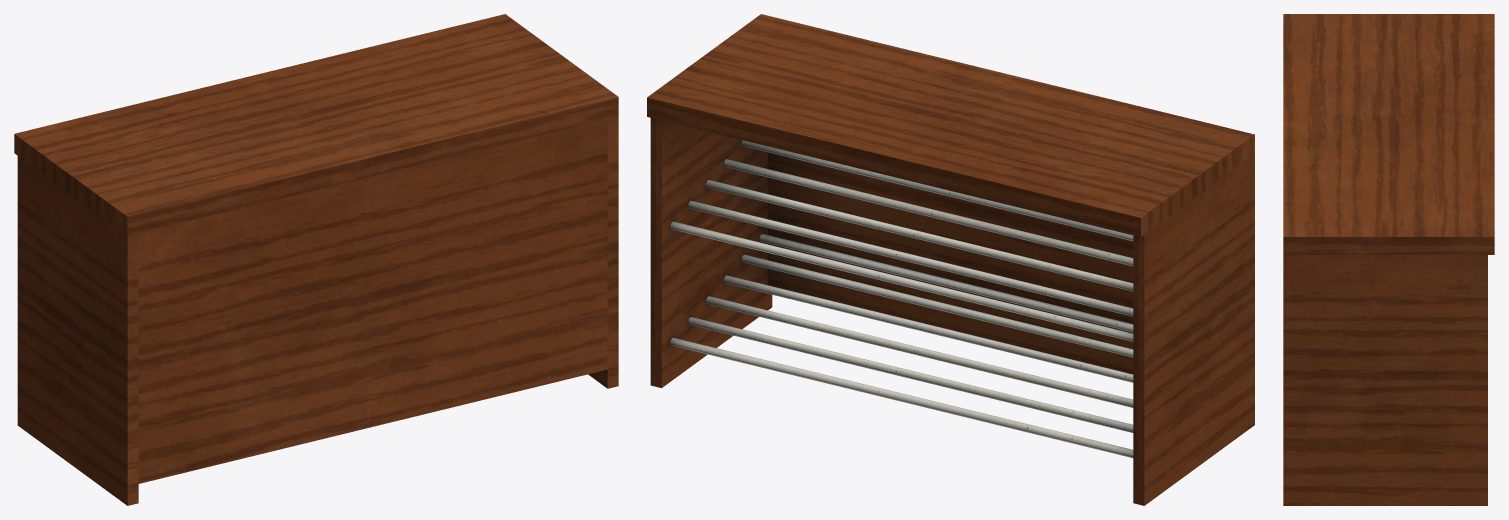
The model's file is hall_shoe_bench_web.glb.
3 renders of one model, left to right at view 1: azimuth 30°, elevation 25°; view 2: azimuth 150°, elevation 25°; view 3: azimuth 270°, elevation 25°, orthographic. The views are drawn at different scales.
Visible parts, largest first — view 1: HallShoeBench_Body; view 2: HallShoeBench_Body; view 3: HallShoeBench_Body.
Boxes of the visible parts, <box> form: HallShoeBench_Body: <box>14,14,618,505</box>; HallShoeBench_Body: <box>647,14,1254,505</box>; HallShoeBench_Body: <box>1283,14,1494,505</box>.
Size of the model in its own units: 0.8 by 0.45 by 0.32.
1 material, 1 textured.
